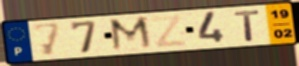4: (197, 10, 230, 47)
7: (32, 22, 63, 58), (69, 20, 100, 55)
M: (107, 15, 156, 53)
T: (233, 9, 263, 43)
Z: (148, 14, 190, 49)
